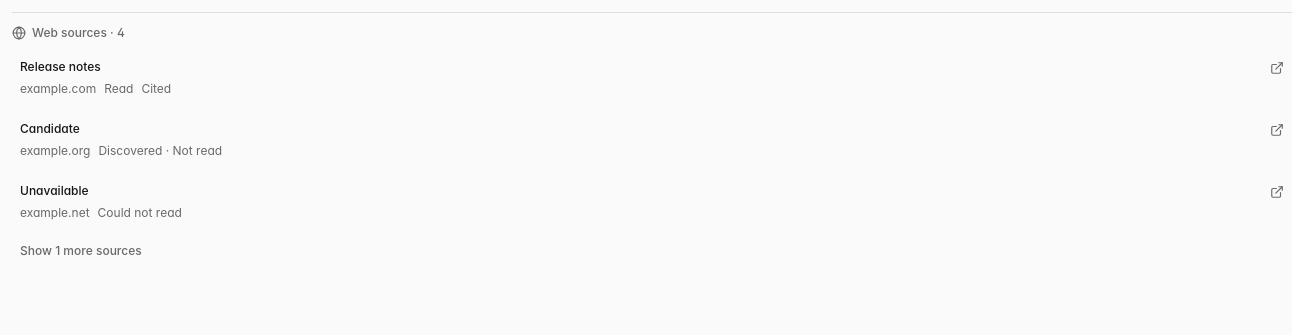
Test: web source presentation › renders hostile titles as text, excludes unsafe sources, and hides raw web cards
Note: The fourth unique source sits behind the "show more" toggle.
Click the button "Show 1 more sources" at [81, 251], box [12,235,150,267]
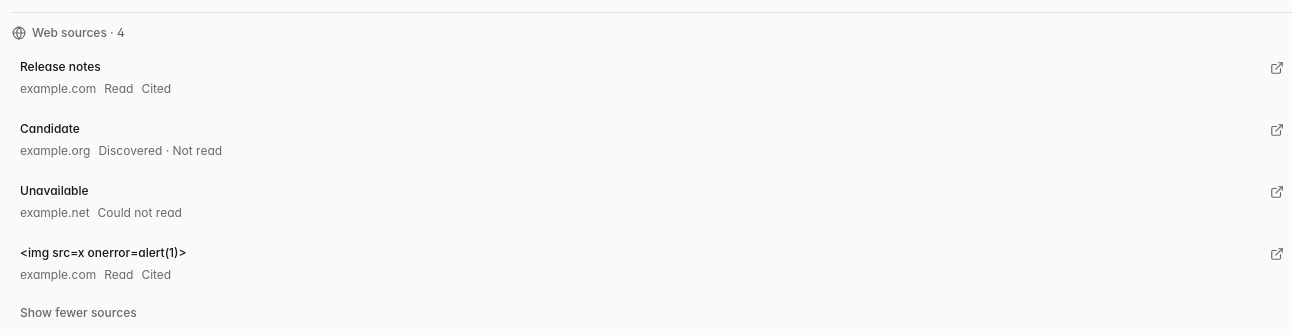
Now the text "<img src=x onerror=alert(1)>" is shown, box [20,245,186,260]
